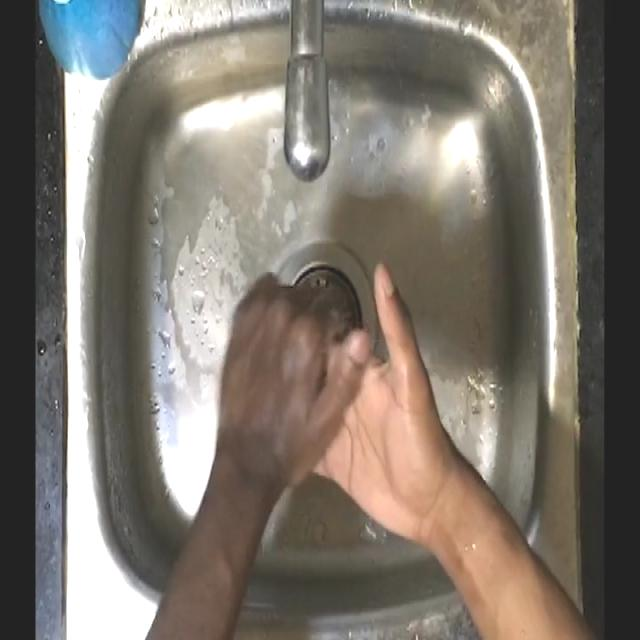step_5: (211, 262, 437, 556)
